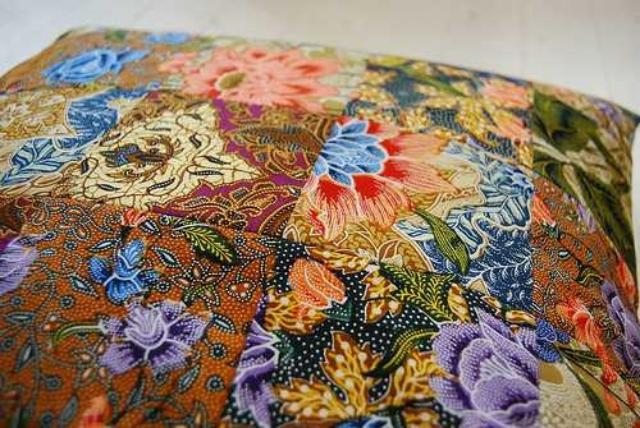pillow: (0, 23, 638, 427)
